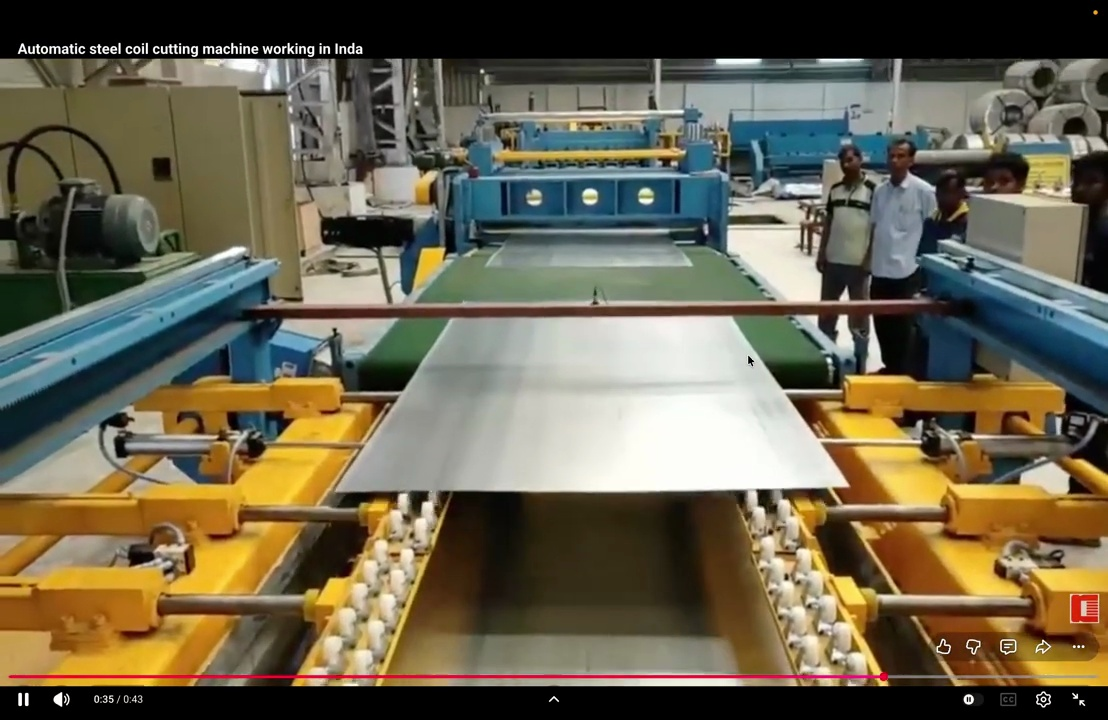steel plate: (337, 318, 845, 492), (486, 234, 690, 267)
